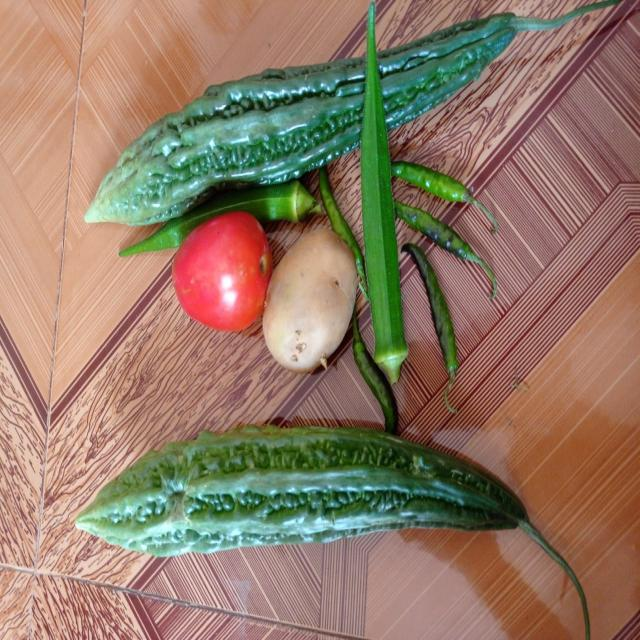Organik: (75, 420, 551, 558), (363, 20, 415, 379), (260, 233, 362, 376), (172, 211, 272, 332), (413, 246, 465, 383)
